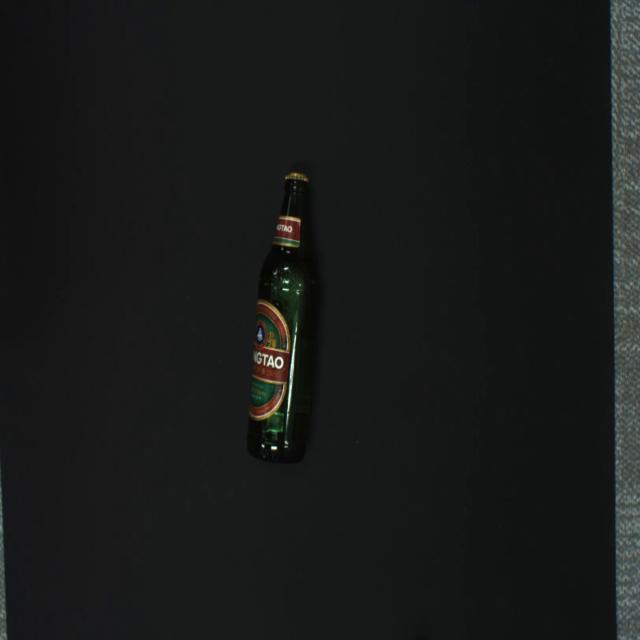beer-bottle: (247, 172, 319, 464)
